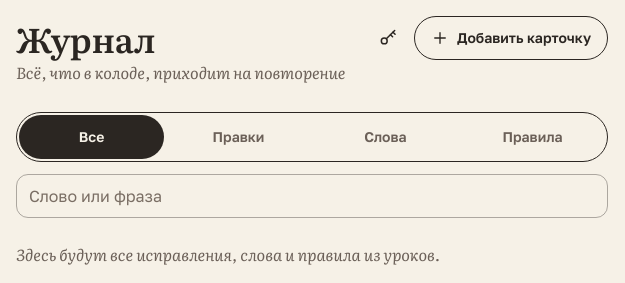
Test case: JournalPage › shows "nothing found" for an empty filtered result and the empty state otherwise
Check: the text "Здесь будут все исправления, слова и правила из уроков." is shown, box [16,242,440,266]
Click the tab "Правила". click: (532, 137)
box: [460,115,605,159]
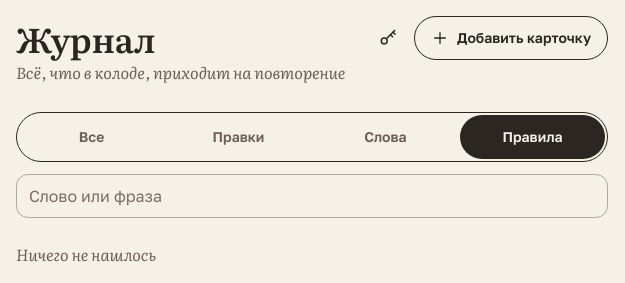
Check: the text "Ничего не нашлось" is shown, box [16,242,156,266]
